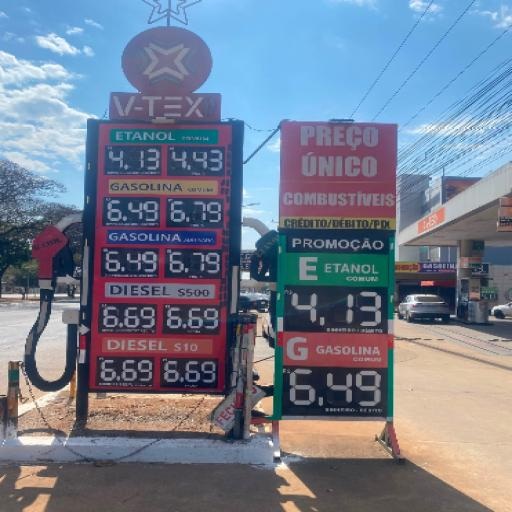ETANOL: (111, 129, 176, 143)
GASOLINA AD: (108, 228, 217, 243)
GASOLINA C: (105, 177, 186, 195)
S10: (97, 335, 208, 358)
S500: (97, 284, 219, 304)
placa: (80, 124, 235, 396)
preco: (102, 247, 160, 276), (99, 303, 159, 331), (99, 358, 153, 386), (107, 146, 161, 171), (105, 198, 161, 222)
